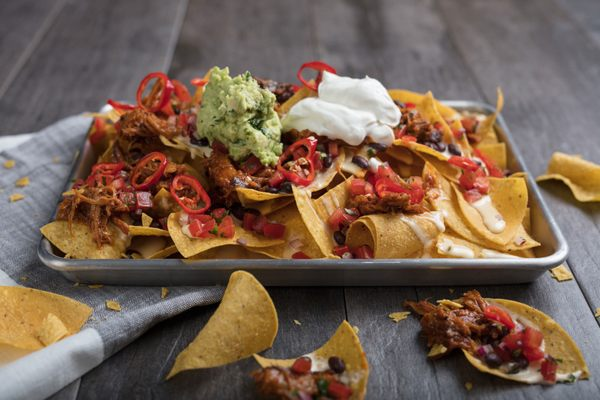curry: (195, 65, 284, 170)
